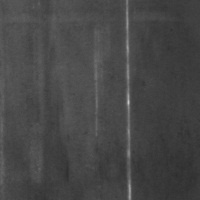scratches: (122, 2, 136, 200)
